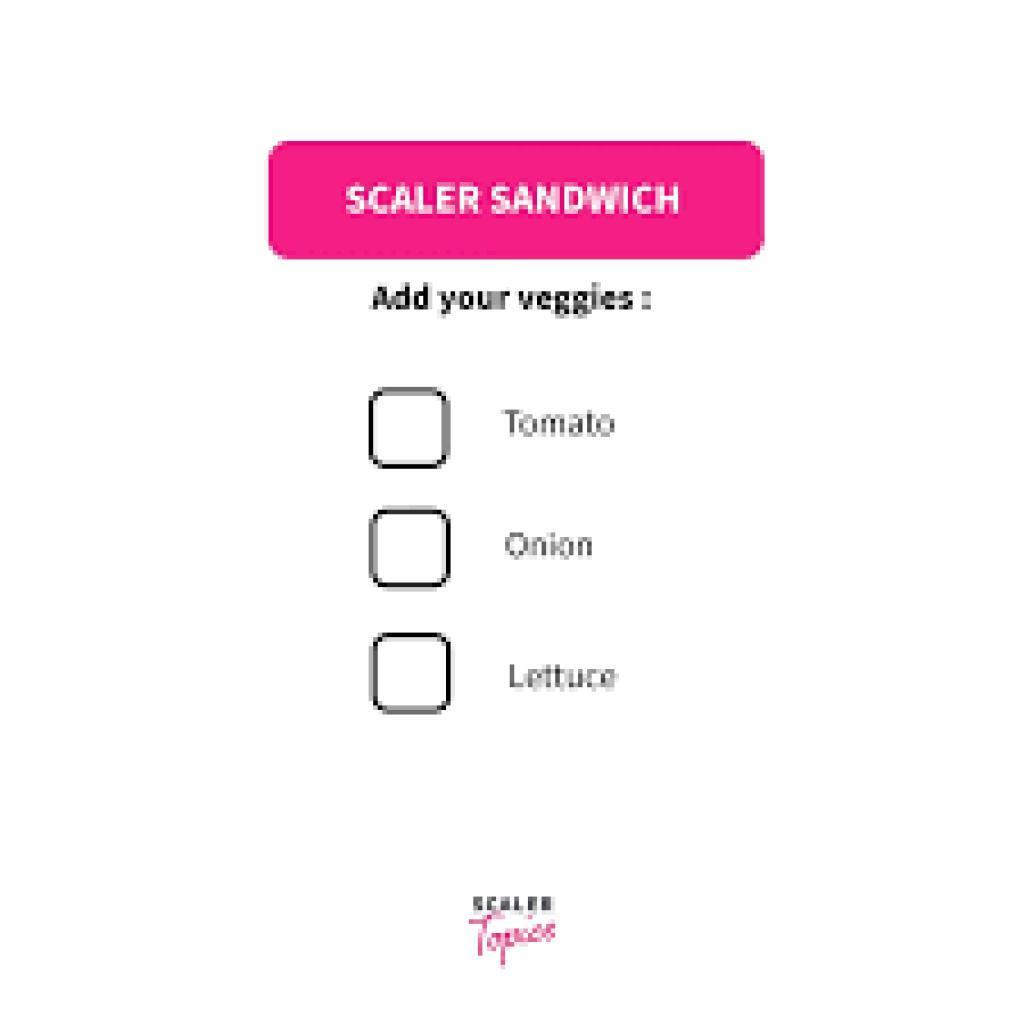button: (271, 143, 766, 261)
checkbox: (373, 632, 452, 716), (375, 511, 452, 591), (371, 393, 449, 468)
